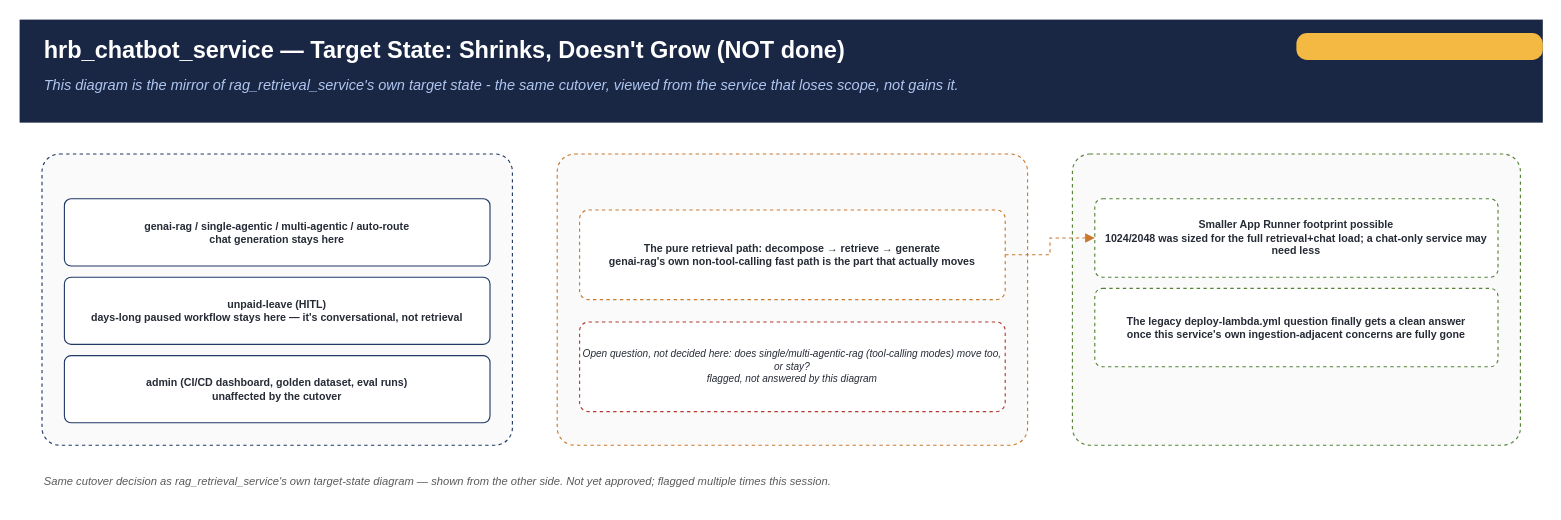
This 1561x520 diagram has some shape labels left out. The box of each missing label's shape, as (x1, y1, x2, y2) in pixels:
Keeps, after the cutover: (41, 153, 512, 445)
Moves out, to rag_retrieval_service: (556, 153, 1028, 445)
VIEW · target state, NOT done: (1296, 32, 1542, 59)
What shrinking unlocks: (1071, 153, 1520, 445)
